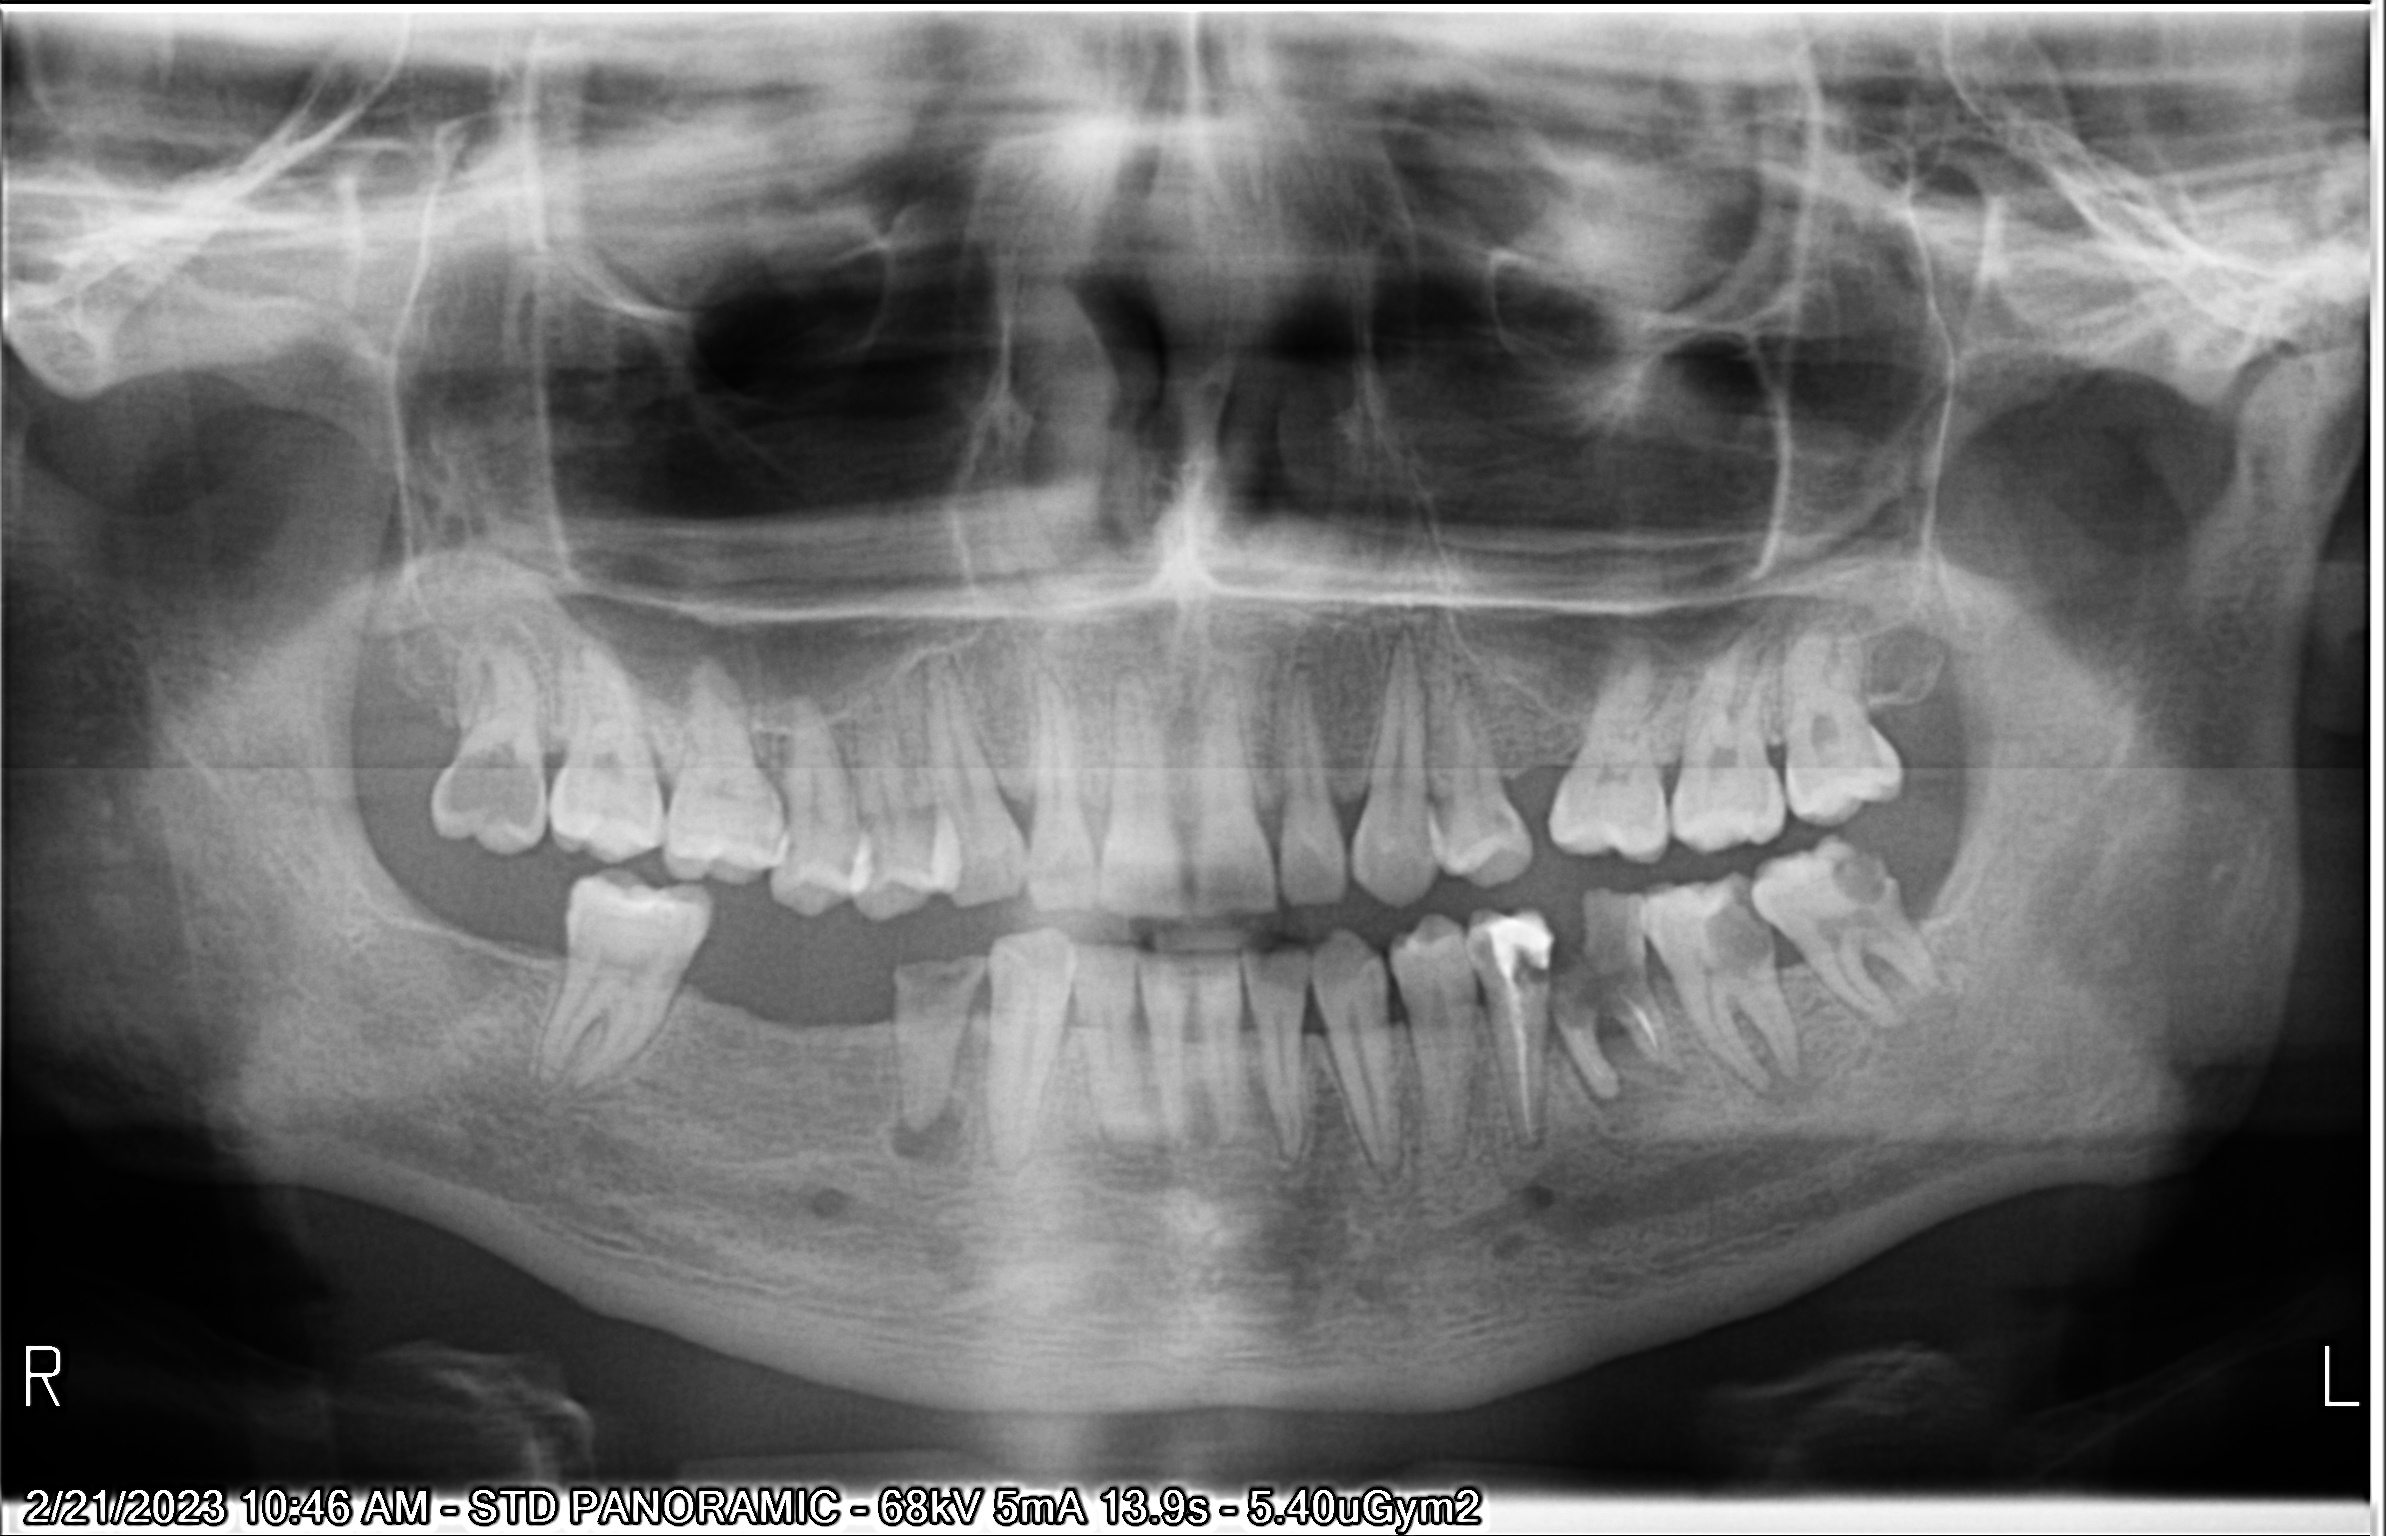API: (1725, 1030, 1819, 1124), (876, 1094, 969, 1185), (1840, 981, 1941, 1063), (1563, 1066, 1656, 1141)
BON: (1480, 741, 1584, 816), (990, 757, 1057, 842), (1318, 755, 1381, 835), (1751, 722, 1805, 786), (1367, 985, 1421, 1049), (1647, 739, 1692, 811), (1289, 1000, 1336, 1061)
CAR: (1548, 884, 1664, 1030), (416, 738, 555, 852), (1690, 873, 1786, 978), (1824, 825, 1911, 910)
END: (1497, 985, 1551, 1157), (1619, 974, 1671, 1054)
ROT: (885, 948, 990, 1132)
